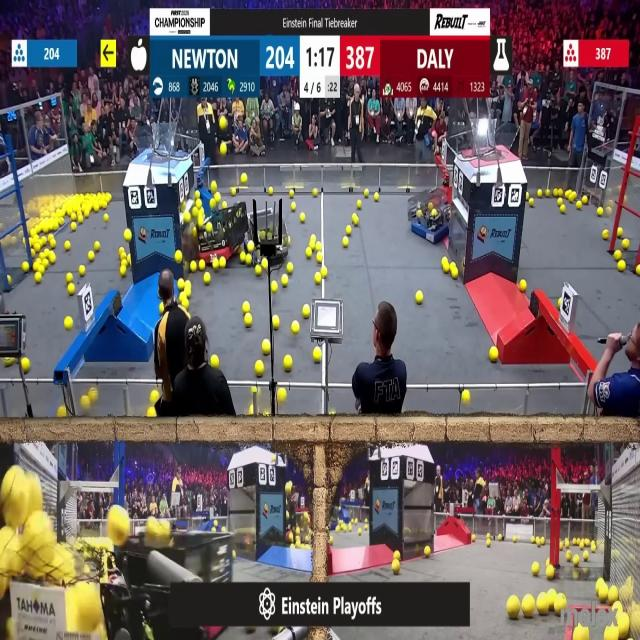ball_airborne: (108, 507, 127, 534), (285, 482, 292, 495), (220, 117, 227, 129), (220, 143, 227, 155)
ball_ground: (508, 596, 522, 619), (523, 597, 535, 619), (554, 596, 566, 615), (536, 598, 548, 616), (596, 582, 605, 602), (574, 628, 588, 640), (608, 588, 618, 604), (490, 348, 499, 362), (255, 360, 263, 375), (264, 341, 272, 355), (22, 358, 30, 372), (545, 566, 553, 580), (284, 356, 292, 370), (66, 317, 74, 330), (314, 349, 322, 362), (392, 561, 400, 574), (211, 355, 219, 368), (461, 391, 469, 404), (150, 391, 158, 404), (278, 388, 286, 401), (532, 562, 539, 576), (416, 290, 424, 302), (303, 306, 311, 318), (291, 321, 299, 333), (81, 396, 89, 408), (273, 316, 280, 329), (245, 314, 252, 327), (175, 251, 183, 262), (243, 303, 251, 314), (147, 409, 155, 420), (59, 409, 67, 420), (48, 252, 55, 264), (622, 240, 630, 250), (4, 357, 12, 367), (619, 262, 626, 273), (35, 273, 42, 284), (199, 261, 206, 272), (189, 262, 196, 273), (271, 282, 278, 293), (123, 231, 130, 242), (247, 242, 254, 253), (183, 212, 190, 223), (520, 280, 526, 292), (205, 273, 211, 285), (321, 268, 327, 280), (68, 284, 75, 294), (23, 264, 30, 274), (602, 231, 609, 241), (282, 276, 289, 286), (178, 280, 185, 290), (78, 267, 85, 277), (444, 264, 451, 274), (616, 250, 623, 260), (254, 267, 261, 277), (241, 174, 248, 184), (443, 256, 450, 266), (569, 191, 576, 201), (43, 248, 50, 258), (40, 238, 47, 248), (286, 264, 292, 275), (219, 257, 225, 268), (352, 214, 358, 225), (424, 545, 430, 556), (316, 274, 322, 285), (241, 252, 247, 263), (67, 274, 73, 284), (90, 251, 96, 261), (65, 241, 71, 251), (452, 269, 458, 279), (95, 242, 101, 252), (316, 252, 322, 262), (343, 238, 349, 248), (49, 240, 55, 250), (307, 248, 313, 258), (248, 408, 254, 418), (119, 268, 125, 278), (34, 263, 40, 273), (180, 292, 186, 302), (118, 248, 124, 258), (572, 556, 578, 566), (211, 182, 217, 192), (263, 258, 269, 268), (596, 208, 603, 216), (394, 552, 400, 561), (290, 203, 296, 212), (316, 242, 322, 251), (618, 229, 624, 238), (77, 214, 83, 223), (566, 554, 572, 563), (347, 224, 352, 234), (299, 213, 304, 223), (585, 552, 590, 562), (560, 206, 566, 214), (536, 189, 542, 197), (251, 386, 257, 394), (575, 202, 581, 210), (356, 201, 362, 209), (288, 190, 294, 198), (106, 192, 112, 200), (32, 242, 38, 250), (557, 199, 563, 207), (195, 200, 200, 209), (215, 192, 220, 201), (269, 187, 275, 194), (127, 255, 133, 262), (554, 188, 560, 195), (161, 304, 165, 314), (636, 266, 640, 276), (71, 222, 76, 230), (529, 200, 534, 208), (544, 188, 549, 196), (83, 210, 88, 218), (194, 190, 199, 198), (487, 539, 492, 547), (214, 518, 218, 527), (72, 213, 76, 222), (373, 195, 378, 202), (584, 198, 589, 205), (184, 280, 189, 287), (43, 258, 48, 265), (525, 191, 530, 198), (364, 189, 368, 197), (471, 534, 475, 542), (358, 530, 362, 538), (312, 235, 316, 243), (560, 541, 564, 549), (120, 259, 125, 265), (544, 559, 549, 565), (498, 534, 502, 541), (314, 189, 318, 196), (233, 188, 237, 195), (531, 536, 535, 543), (105, 214, 108, 222), (514, 536, 518, 542), (474, 538, 478, 544), (48, 235, 52, 241)
goal: (465, 121, 521, 160), (129, 130, 188, 160)
robot_blue: (245, 207, 294, 265), (410, 192, 451, 244)
robot_red: (195, 204, 232, 262)
